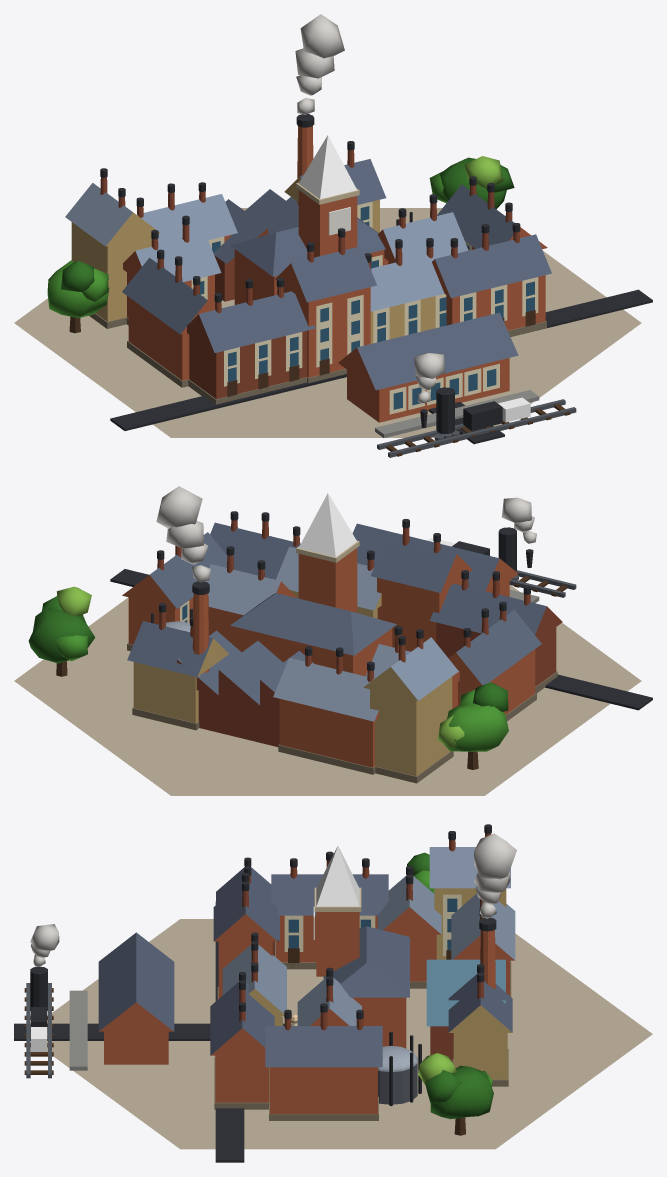
Rendered from city_2_4.fbx.
3 views of the same model, one above another, from view 1: azimuth 30°, elevation 25°; view 2: azimuth 150°, elevation 25°; view 3: azimuth 270°, elevation 25° (orthographic).
Parts seen in each view (by area): view 1: city_2_4; view 2: city_2_4; view 3: city_2_4.
Boxes of the visible parts, x1=… form: city_2_4: x1=14, y1=14, x2=652, y2=457; city_2_4: x1=14, y1=486, x2=652, y2=795; city_2_4: x1=14, y1=824, x2=652, y2=1162.
Size of the model in its own units: 204 by 86.61 by 213.
